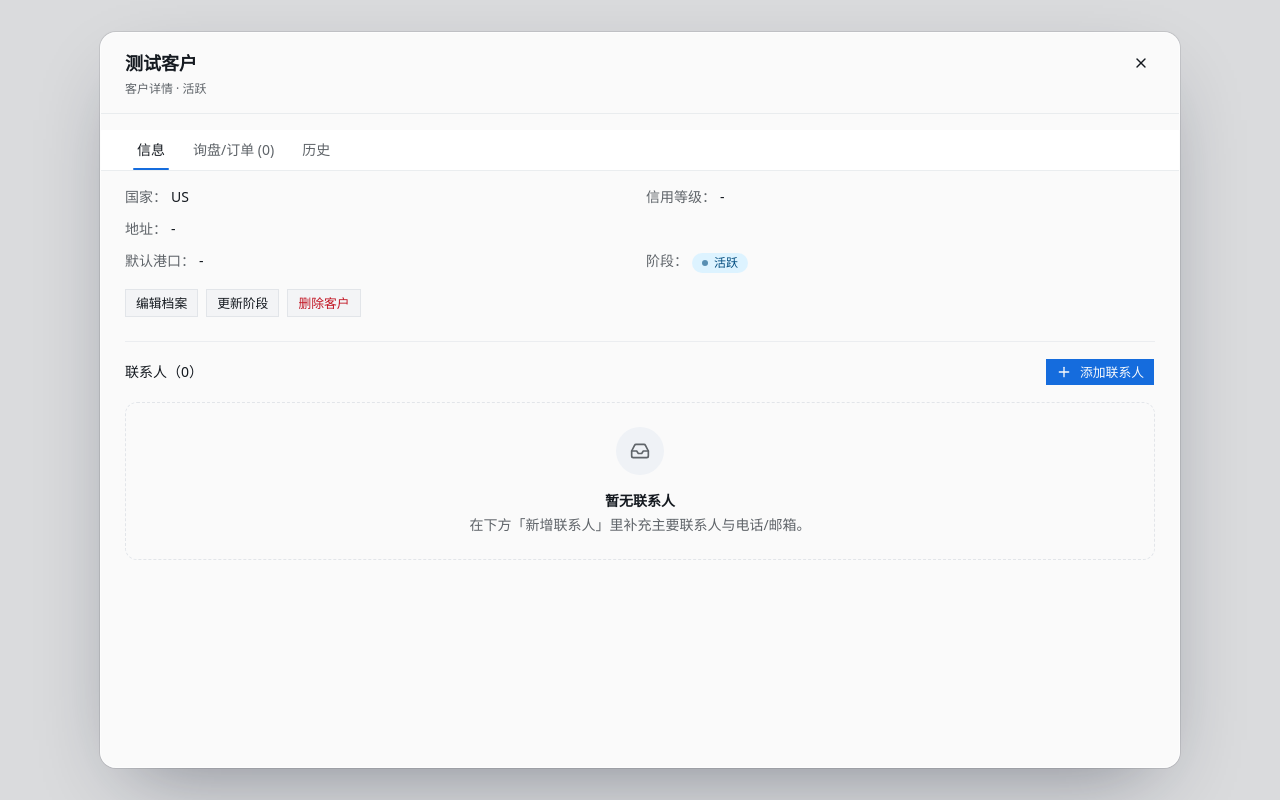
Test case: 客户详情「询盘/订单」tab 计数（问题 5） › 询盘与订单都为 0 时才显示「暂无询盘」
The width and height of the screenshot is (1280, 800).
Click the tab "询盘/订单 (0)". click: x=234, y=150
box: [181,130,286,170]
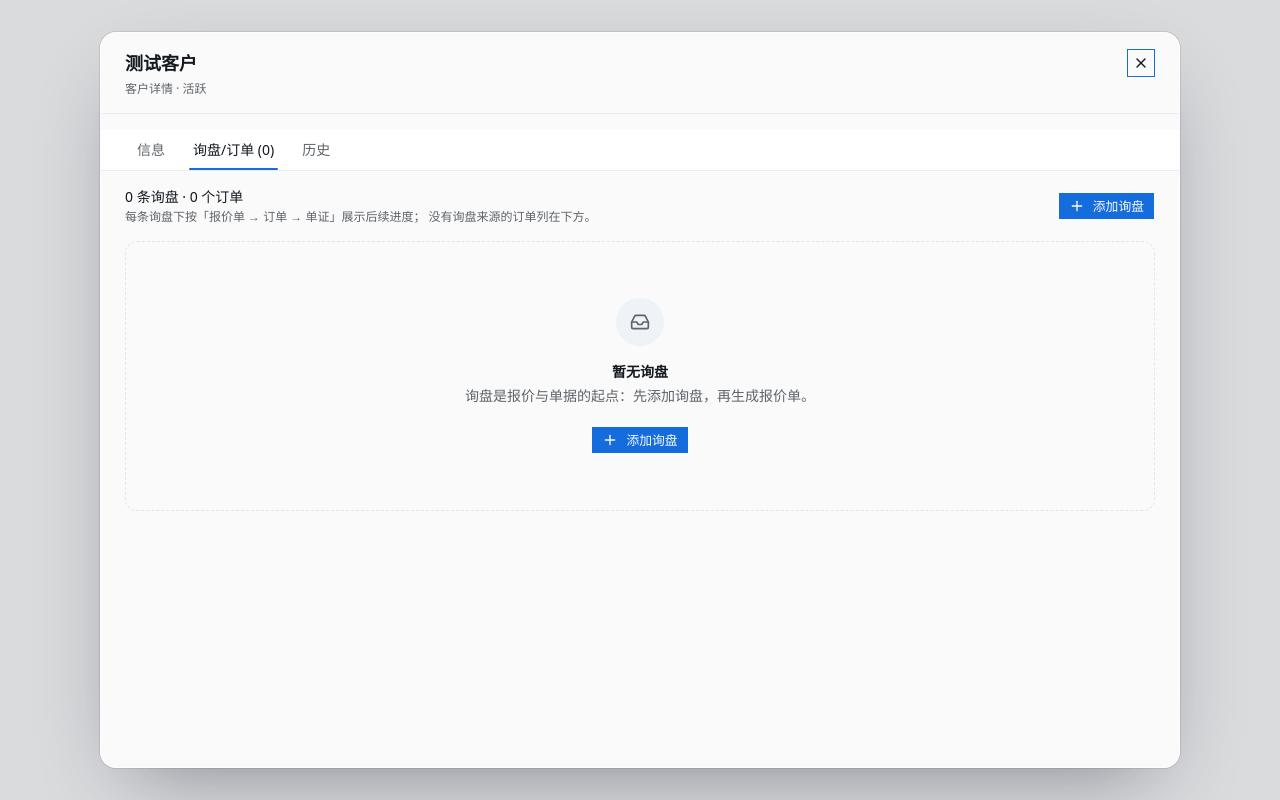
expect the text "暂无询盘" is shown: met, box [612,362,668,382]
